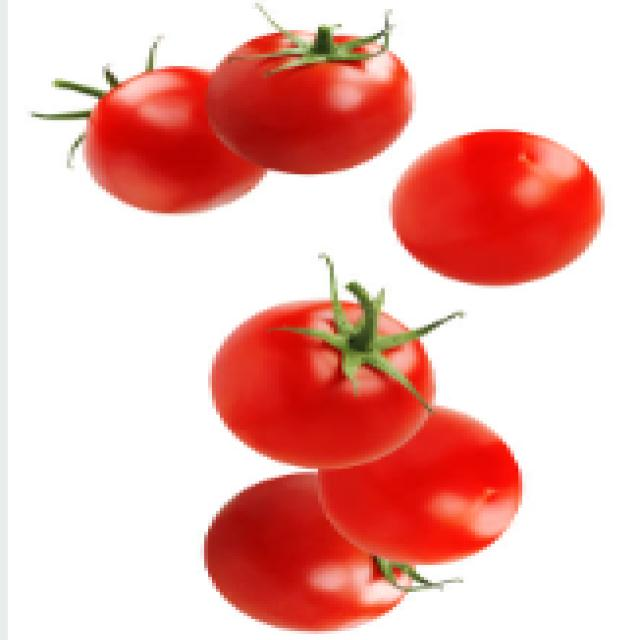Tomato: (196, 275, 442, 472), (206, 7, 437, 175)
